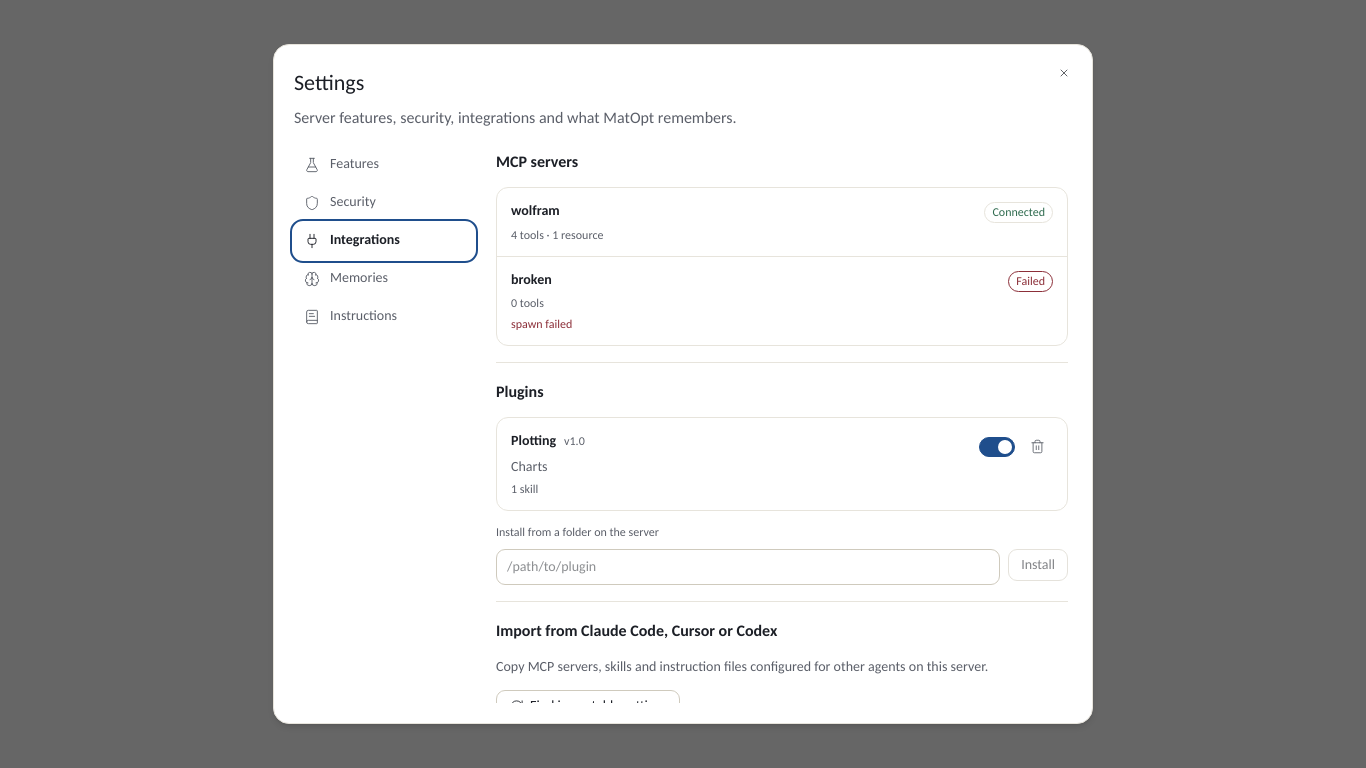
Test: integrations list MCP state, change plugins and import detected items
Click the switch named "Enable Plotting" at (997, 447), box [979, 437, 1015, 457]
(page scrolled)
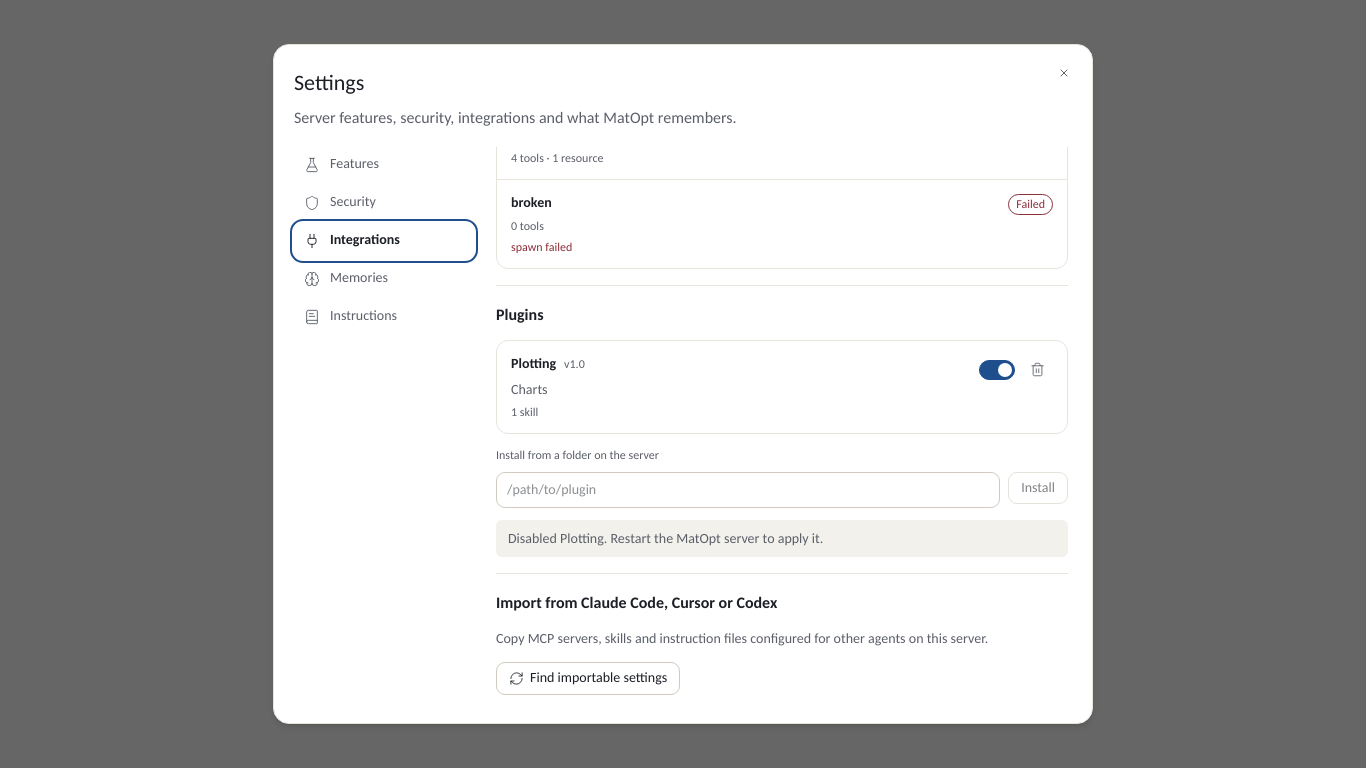
Check: the panel shows "Restart the MatOpt server", box [508, 530, 823, 547]
Click the button "Find importable settings" at (588, 678), box [496, 662, 680, 695]
(page scrolled)
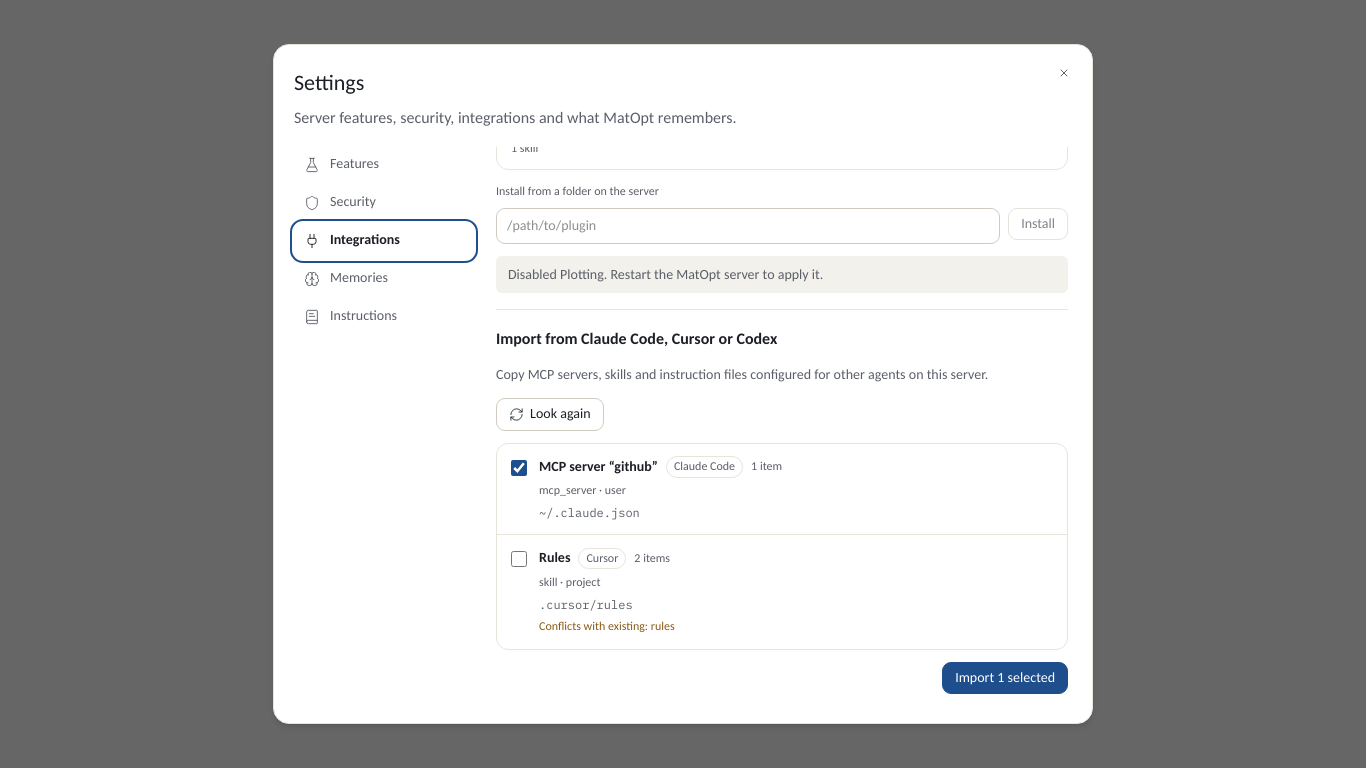
Check: the panel shows "Claude Code", box [674, 460, 735, 474]
Check: the panel shows "Conflicts with existing", box [539, 619, 651, 633]
Click the button "Import 1 selected" at (1005, 678), box [942, 662, 1068, 694]
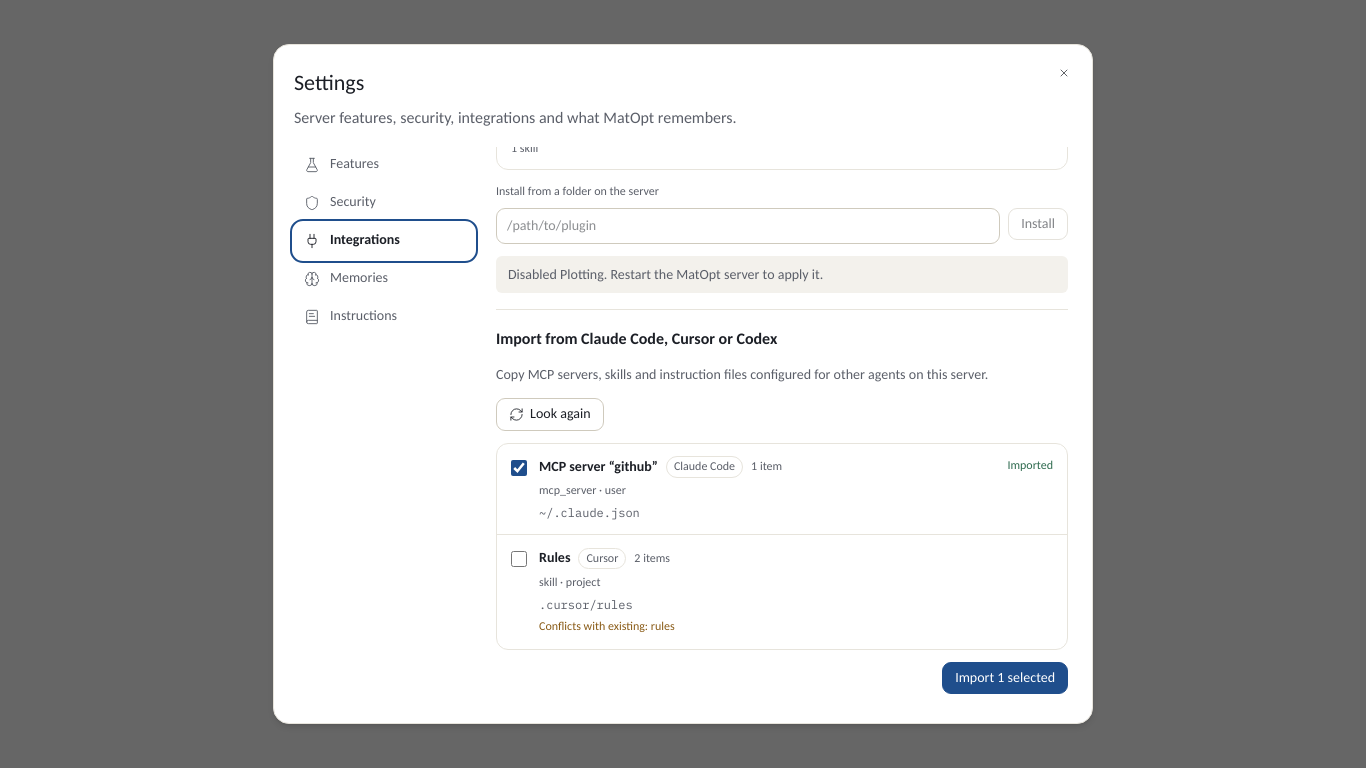
Check: the message "Imported" is shown, box [1007, 456, 1053, 475]
